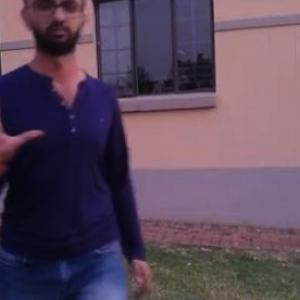follow_hand: (0, 80, 49, 190)
